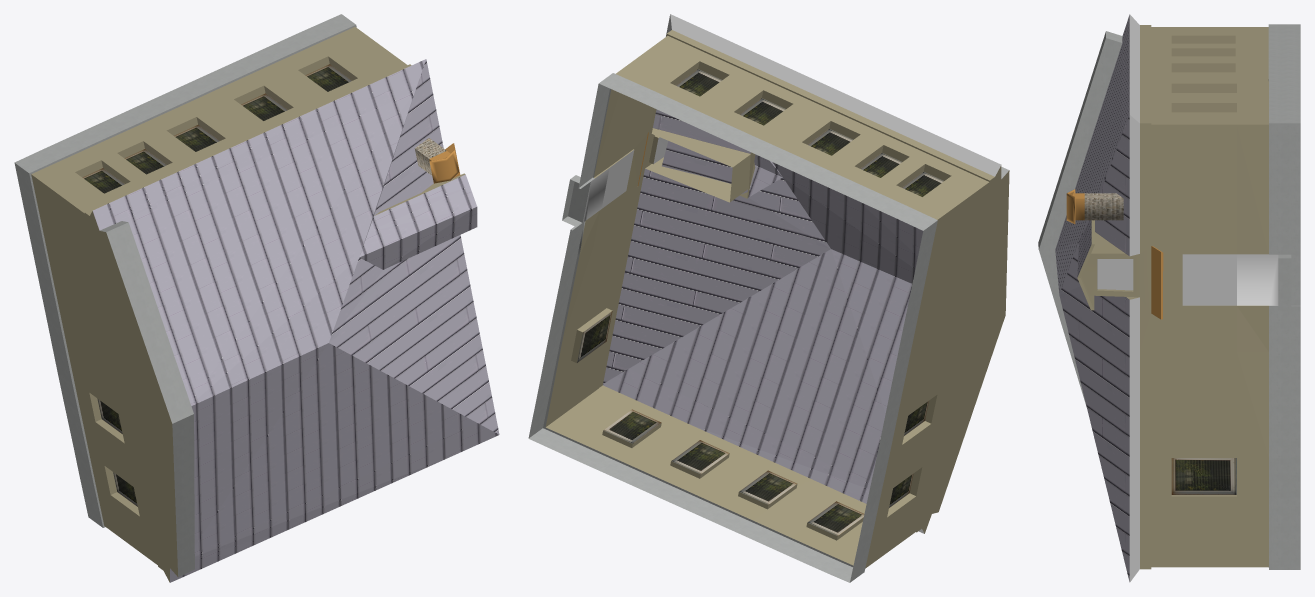
Rendered from Toompea8_3.obj.
3 renders of one model, left to right at view 1: azimuth 30°, elevation 25°; view 2: azimuth 150°, elevation 25°; view 3: azimuth 270°, elevation 25°, orthographic. The views are drawn at different scales.
Parts seen in each view (by area): view 1: Toompea_8_3; view 2: Toompea_8_3; view 3: Toompea_8_3.
Part boxes in pixels (x1=…): Toompea_8_3: x1=14, y1=14, x2=499, y2=582; Toompea_8_3: x1=528, y1=14, x2=1009, y2=582; Toompea_8_3: x1=1038, y1=14, x2=1300, y2=582.
Size of the model in its own units: 14.62 by 15.84 by 7.5.
